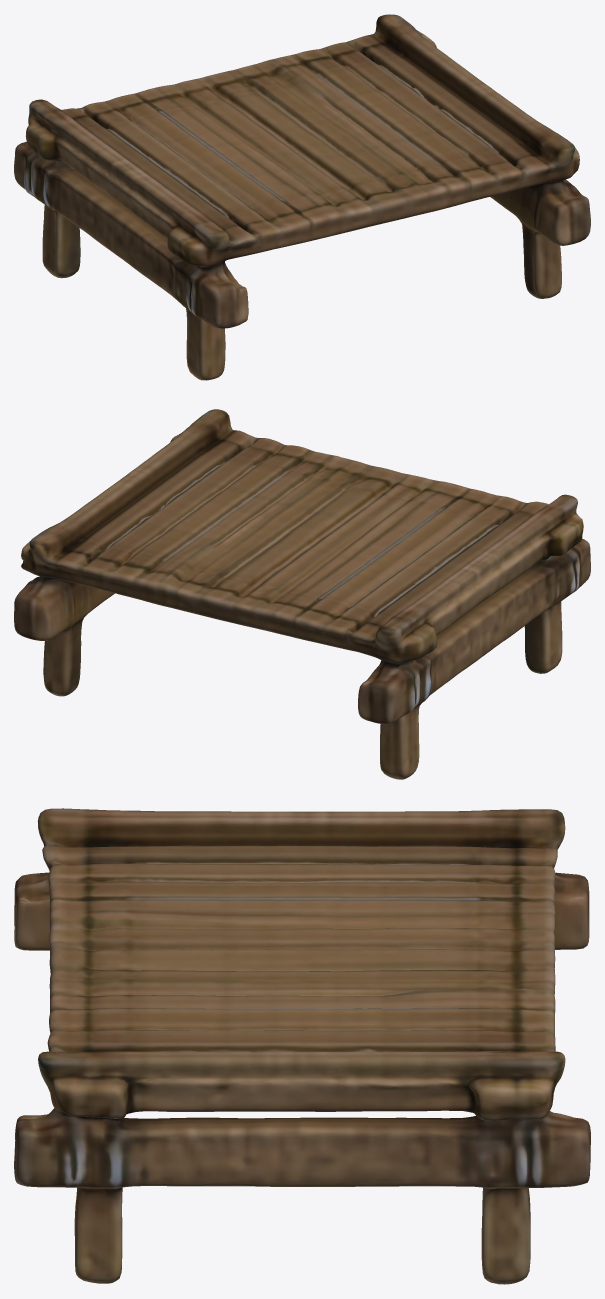
The model's file is stand.glb.
The picture shows the model from 3 angles, top to bottom: view 1: azimuth 30°, elevation 25°; view 2: azimuth 150°, elevation 25°; view 3: azimuth 270°, elevation 25°; orthographic projection. The views are drawn at different scales.
Visible parts, largest first — view 1: world; view 2: world; view 3: world.
Part boxes in pixels (x1,y1,x2,y2): world: (14, 14, 590, 380); world: (14, 409, 590, 779); world: (14, 808, 590, 1284).
Bounding box in the file's own units: 0.4709 × 0.1859 × 0.4183.
Materials: 1 (1 with a texture image).
